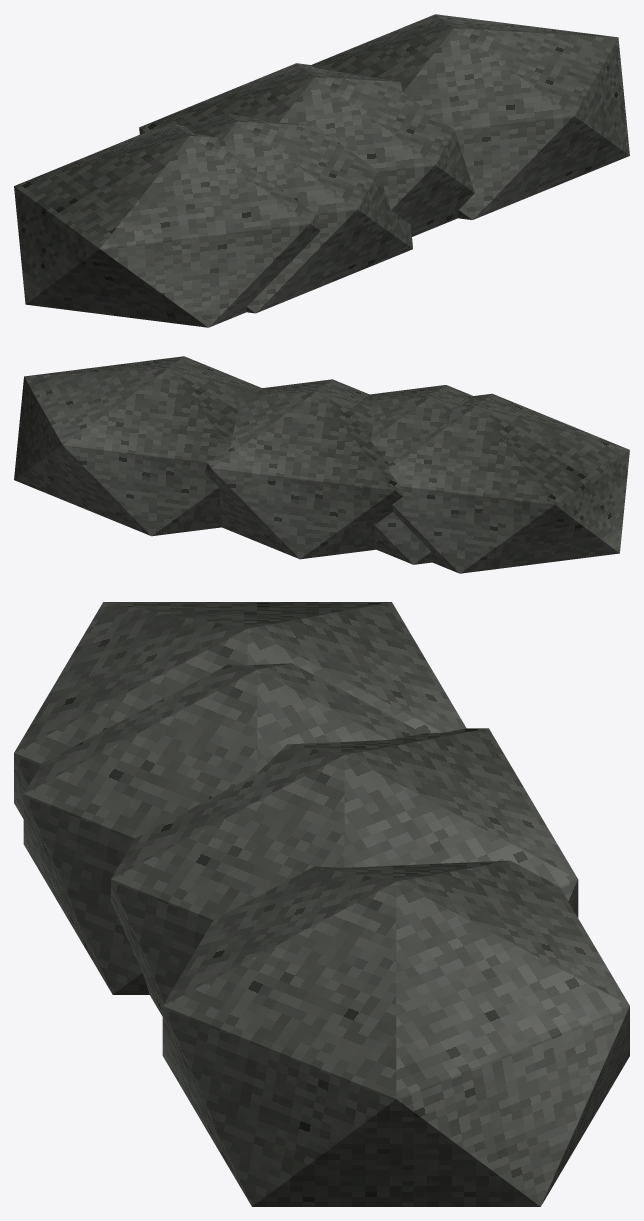
File: rochas.glb
3 renders of one model, top to bottom at view 1: azimuth 30°, elevation 25°; view 2: azimuth 150°, elevation 25°; view 3: azimuth 270°, elevation 25°, orthographic. The views are drawn at different scales.
Parts seen in each view (by area): view 1: rochas_mesh; view 2: rochas_mesh; view 3: rochas_mesh.
Part boxes in pixels (x1,y1,x2,y2): rochas_mesh: (14, 14, 629, 327); rochas_mesh: (14, 356, 629, 573); rochas_mesh: (14, 602, 629, 1206).
Bounding box in the file's own units: 0.8109 × 0.216 × 0.4038.
Materials: 1 (1 with a texture image).
